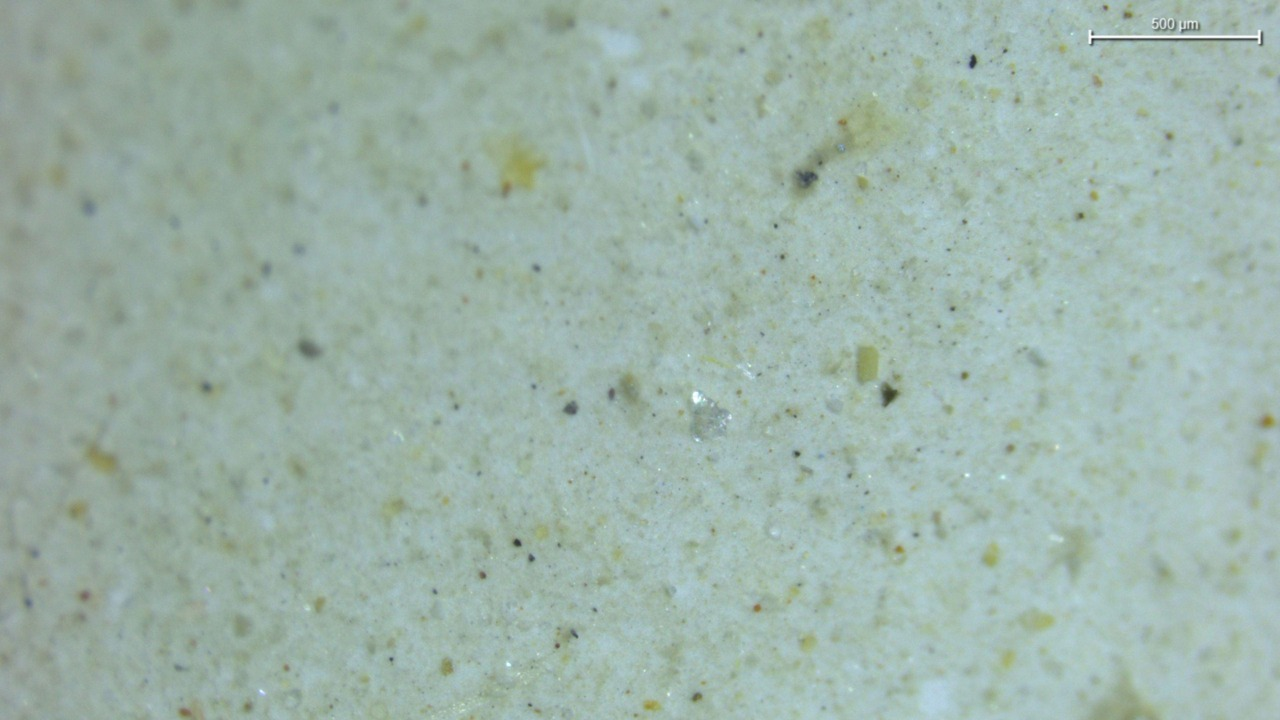microplastic_fragment: (691, 390, 730, 440), (857, 346, 879, 383)
